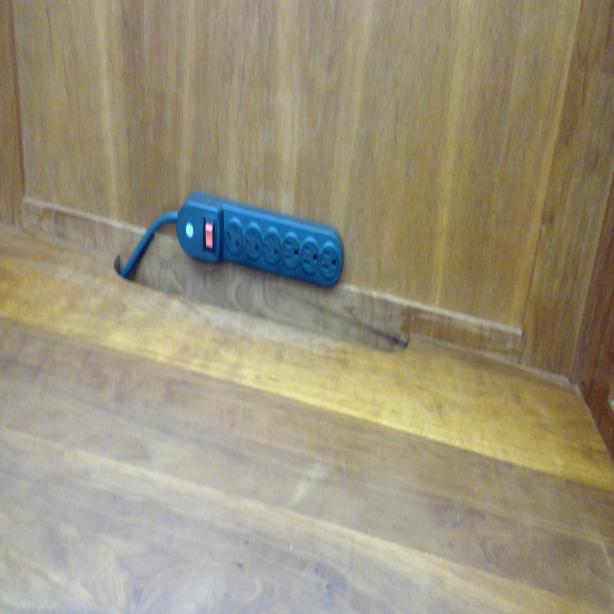typeb: (223, 217, 244, 255), (245, 224, 263, 261), (264, 227, 281, 266), (283, 234, 301, 270), (301, 240, 320, 274), (321, 245, 339, 277)
